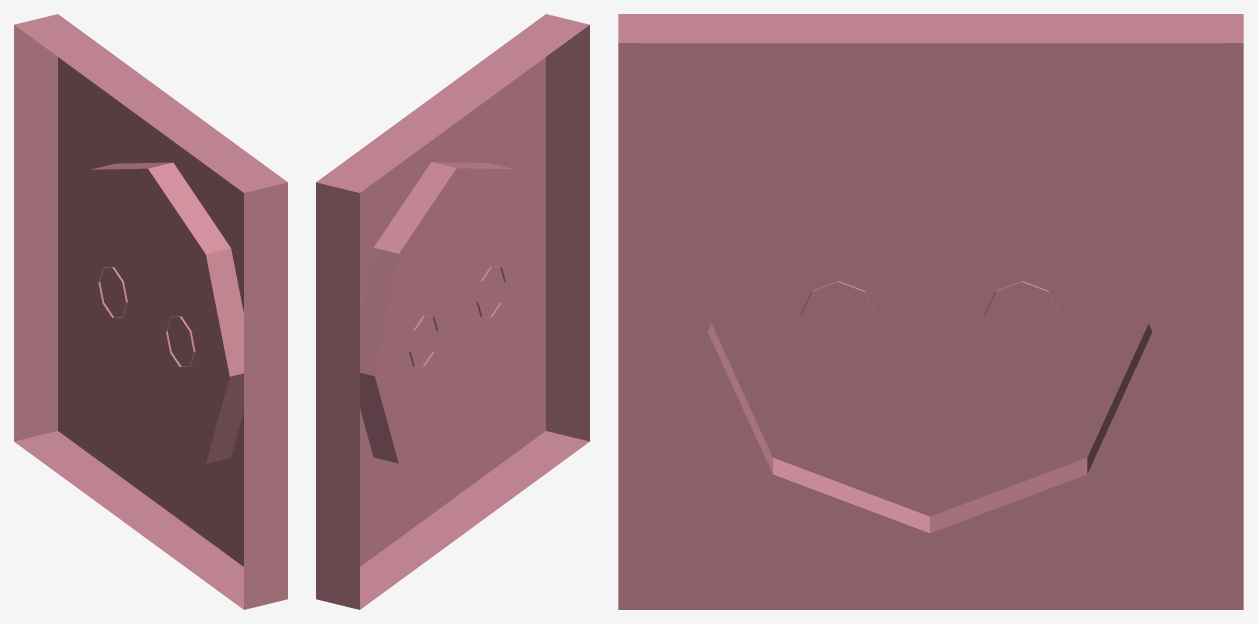
The model's file is Laundry_socket1.fbx.
3 renders of one model, left to right at view 1: azimuth 30°, elevation 25°; view 2: azimuth 150°, elevation 25°; view 3: azimuth 270°, elevation 25°, orthographic. The views are drawn at different scales.
Parts seen in each view (by area): view 1: Laundry_socket1; view 2: Laundry_socket1; view 3: Laundry_socket1.
Part boxes in pixels (x1=…): Laundry_socket1: x1=14, y1=14, x2=287, y2=609; Laundry_socket1: x1=316, y1=14, x2=589, y2=609; Laundry_socket1: x1=618, y1=14, x2=1243, y2=609.
Bounding box in the file's own units: 1.49 × 13.53 × 13.53.
